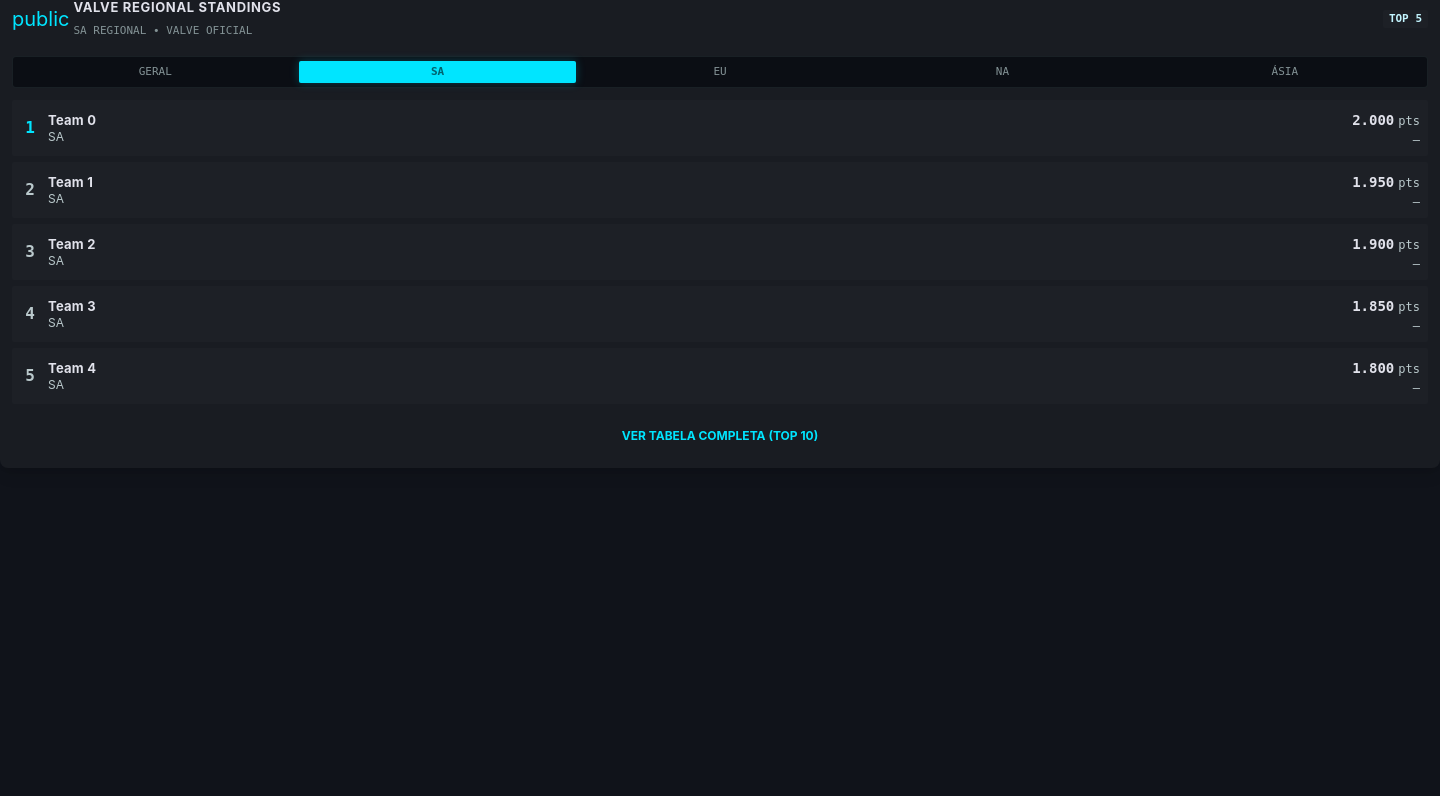
Test: Ranking disclosure › deduplicates Americas in GERAL, sorts by points, expands and groups the top ten
The image size is (1440, 796).
expect the text "Team 5" is not shown: met
Click the button "VER TABELA COMPLETA (TOP 10)": (720, 436) [12,416,1428,456]
(page scrolled)
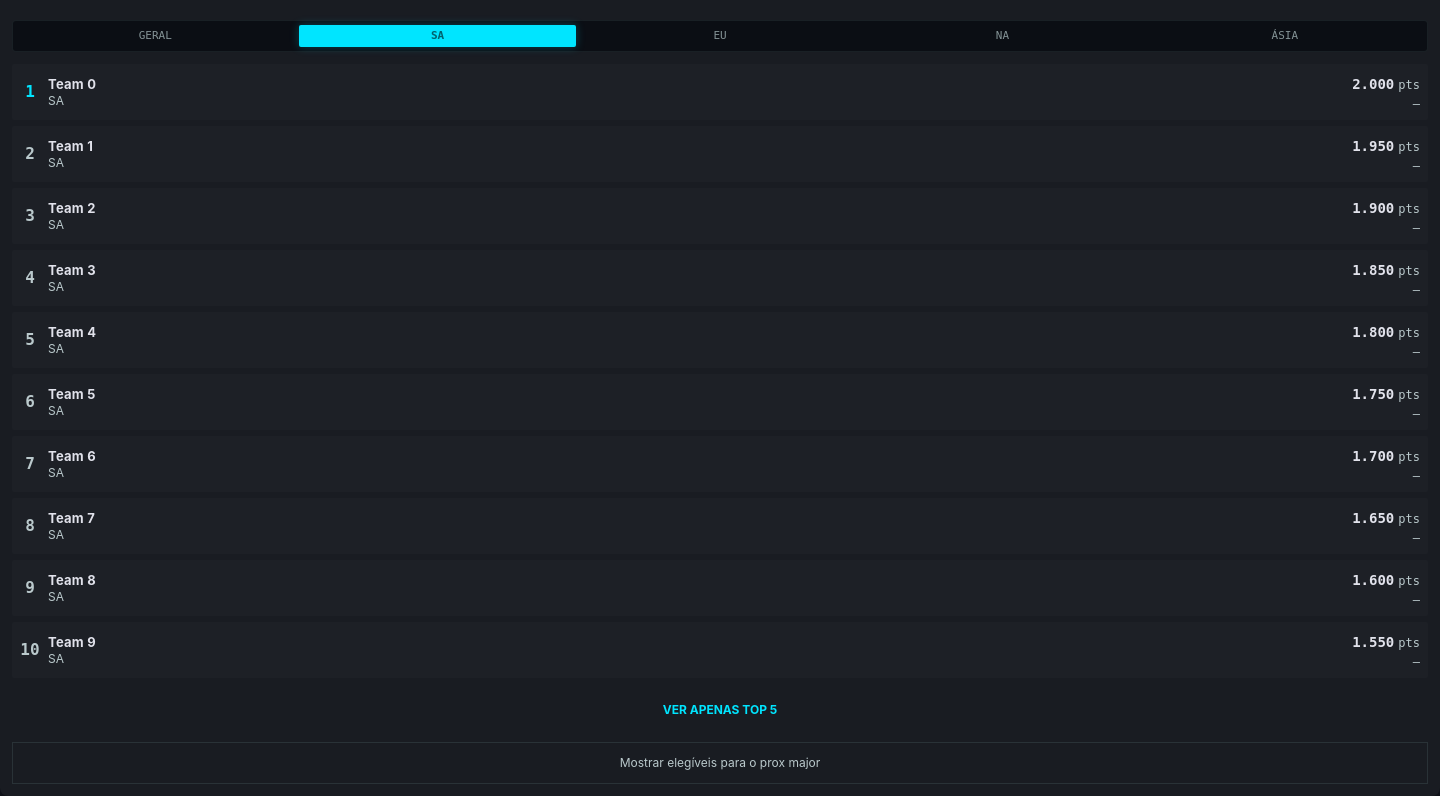
expect the text "Team 9" is shown: met, box [48,633,96,651]
Click the button "Mostrar elegíveis para o prox major": (720, 763) [12,742,1428,784]
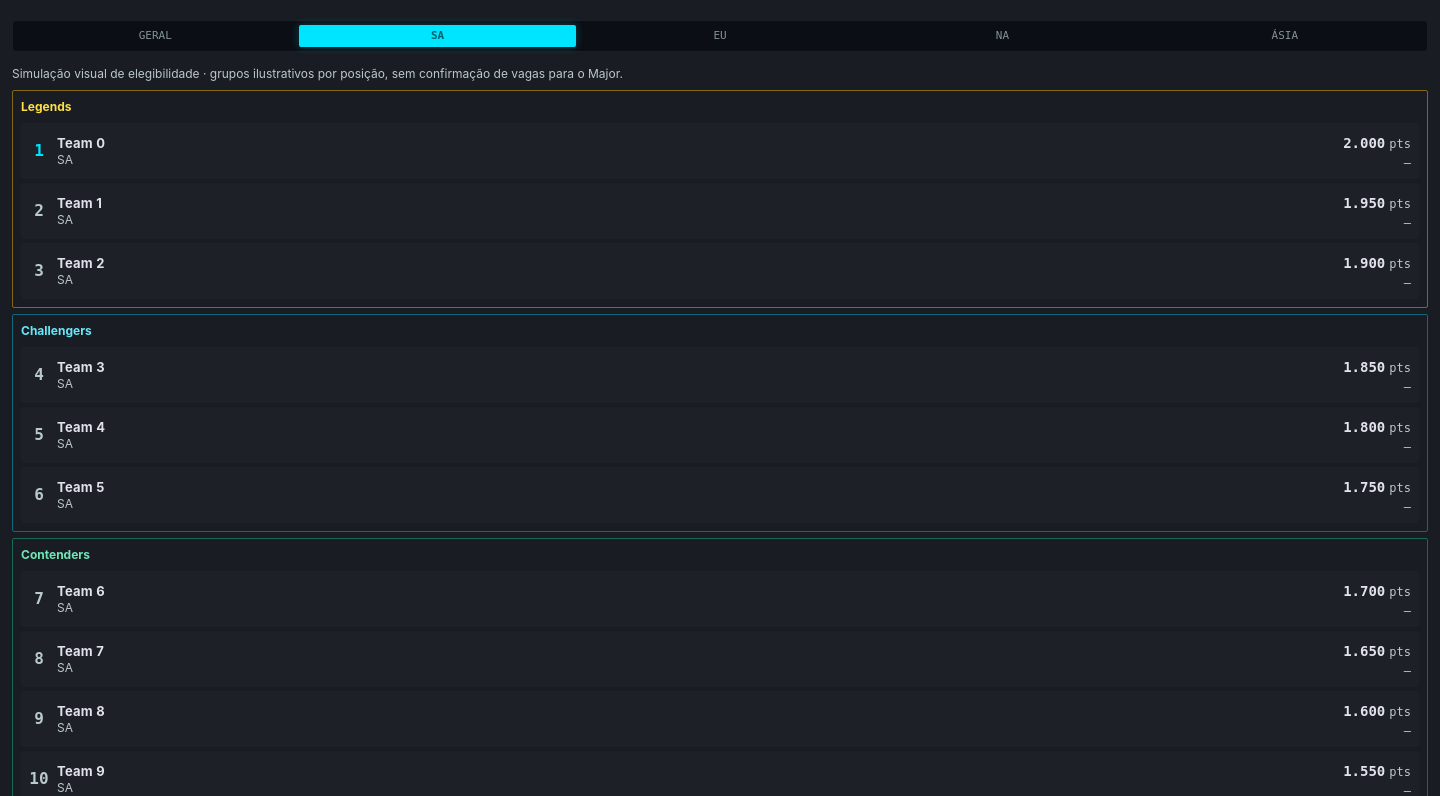
expect the element "Challengers" is shown: met, box [12,314,1428,532]
Click the button "GERAL": (155, 36) [17,25,293,47]
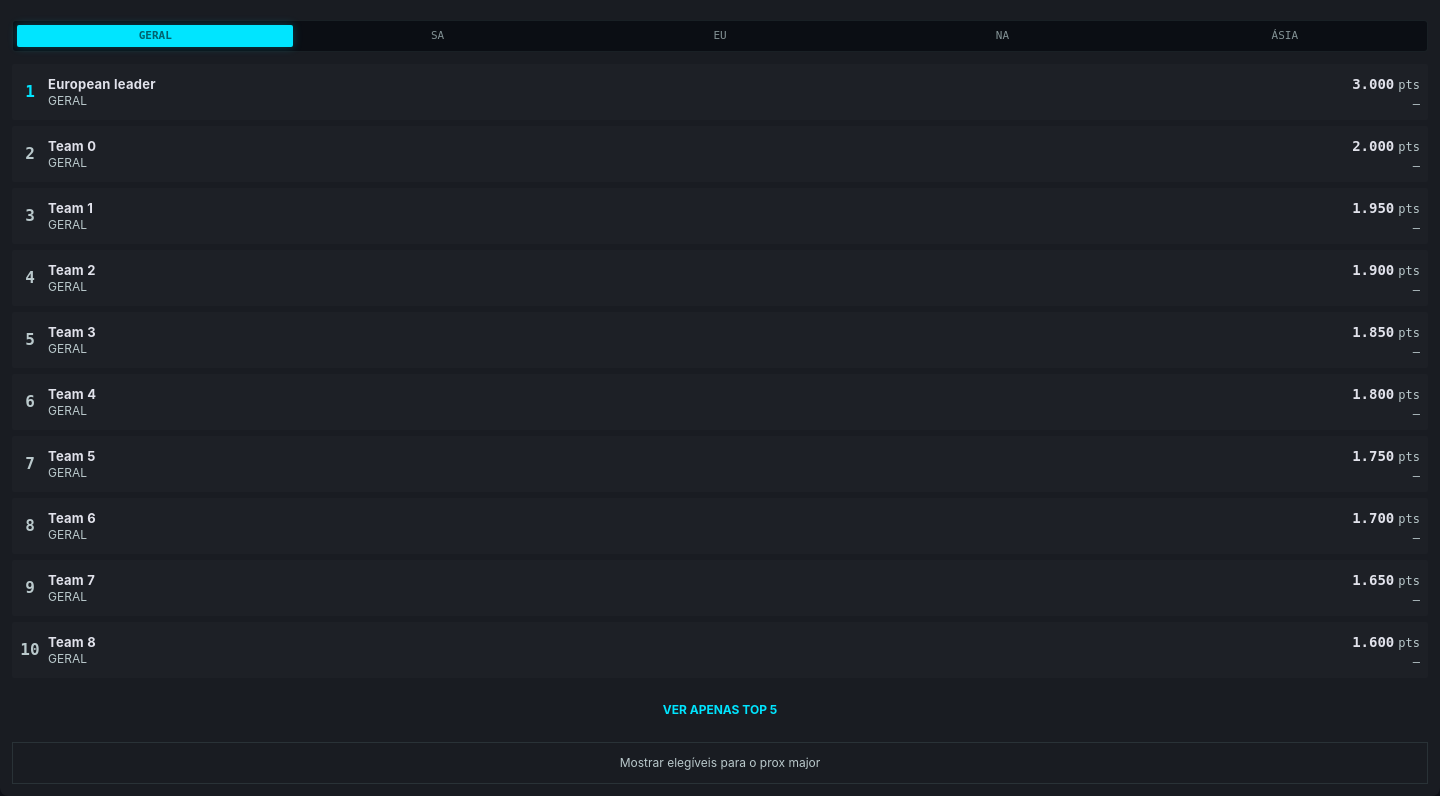
expect the text "Team 0" is shown once: met, box [48,137,96,155]
expect the text "European leader" is shown: met, box [48,75,156,93]
expect the heading "Legends" is gone: met
Click the button "VER APENAS TOP 5": (720, 710) [12,690,1428,730]
(page scrolled)
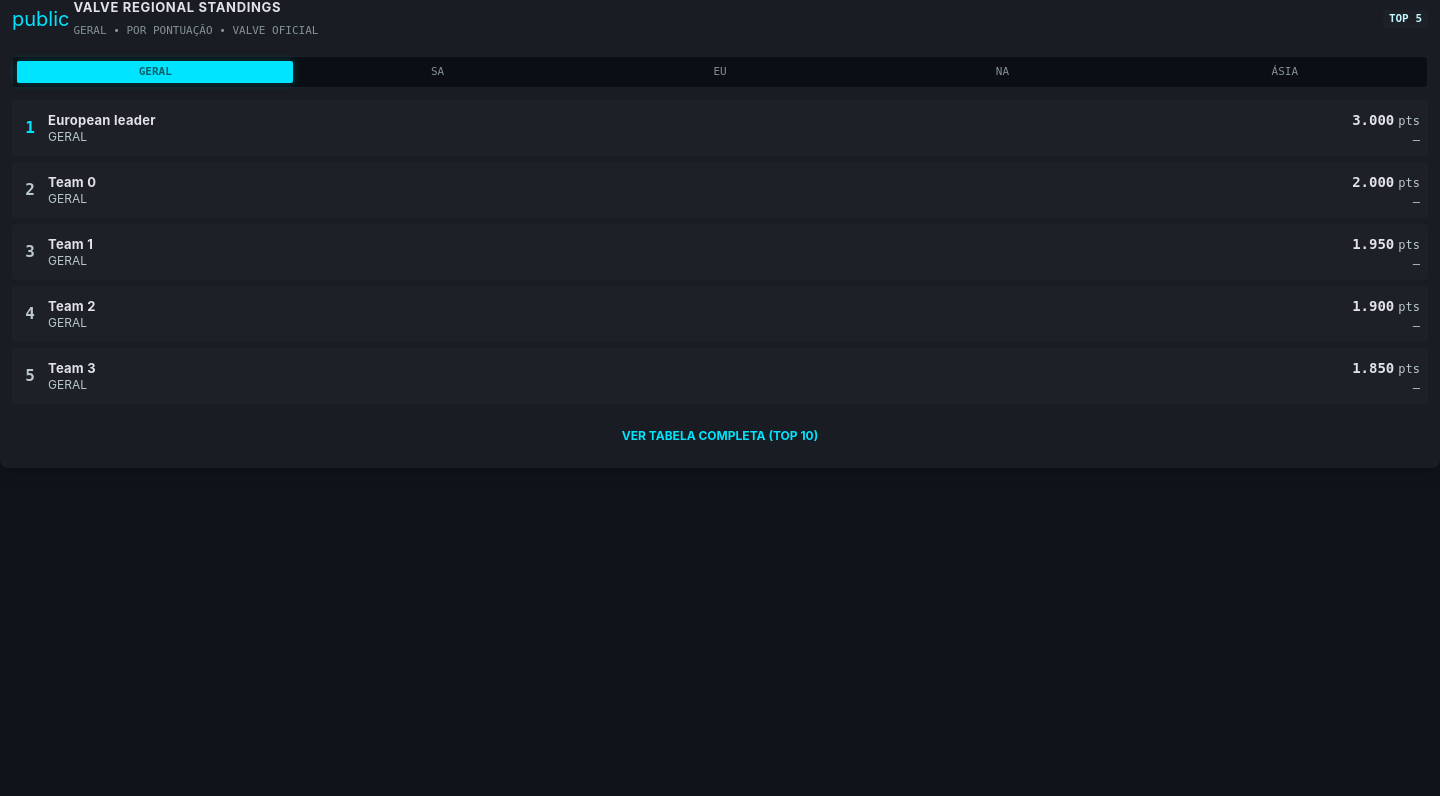
expect the text "Team 4" is gone: met
